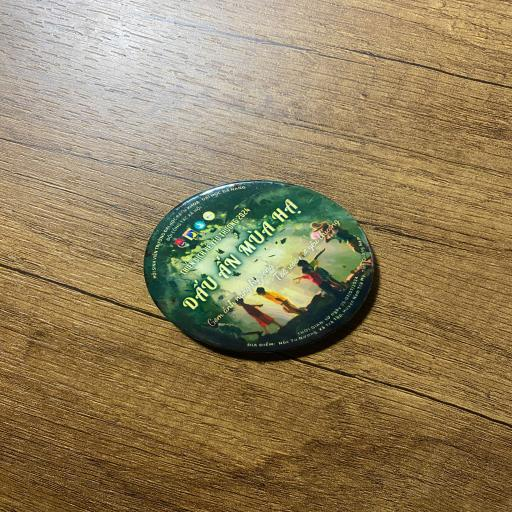HH: (141, 177, 382, 358)
